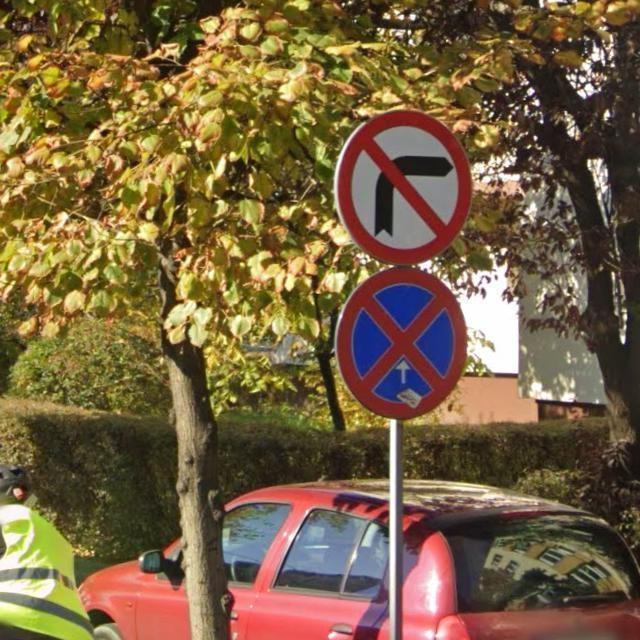forb_waiting: (332, 267, 466, 418)
